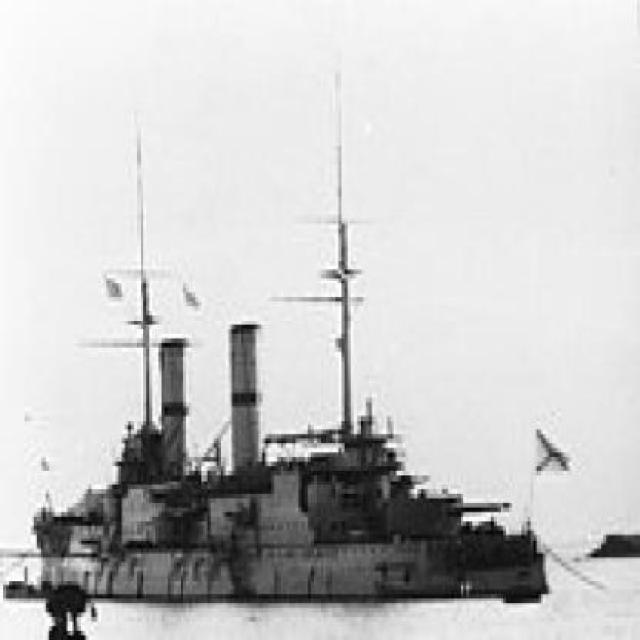warship2: (10, 61, 587, 610)
